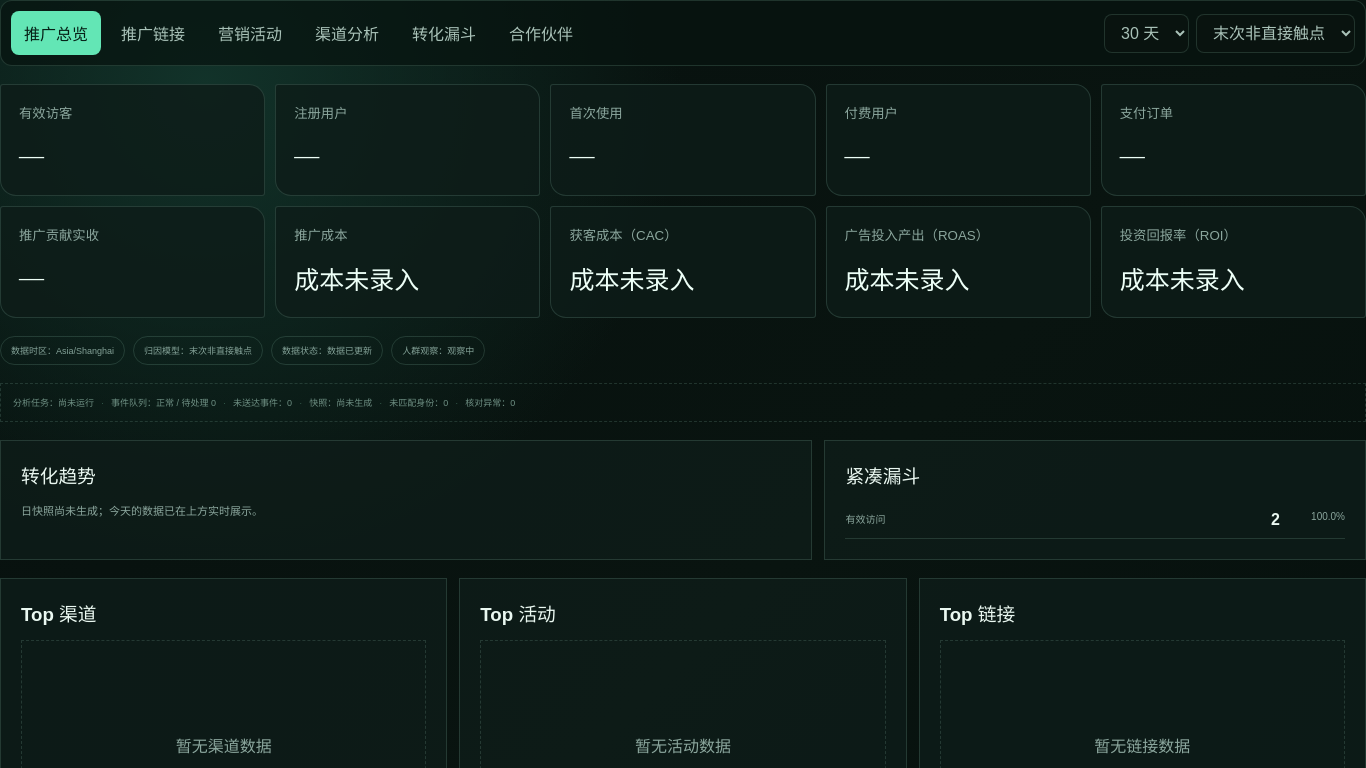
Test case: promotion center shell › renders all five management pages from one synthetic closed-loop dataset
Expected: the text "日快照尚未生成；今天的数据已在上方实时展示。" is shown, [21,505,263,517]
Click the tab "推广链接".
click(153, 33)  # box [108,11,198,55]
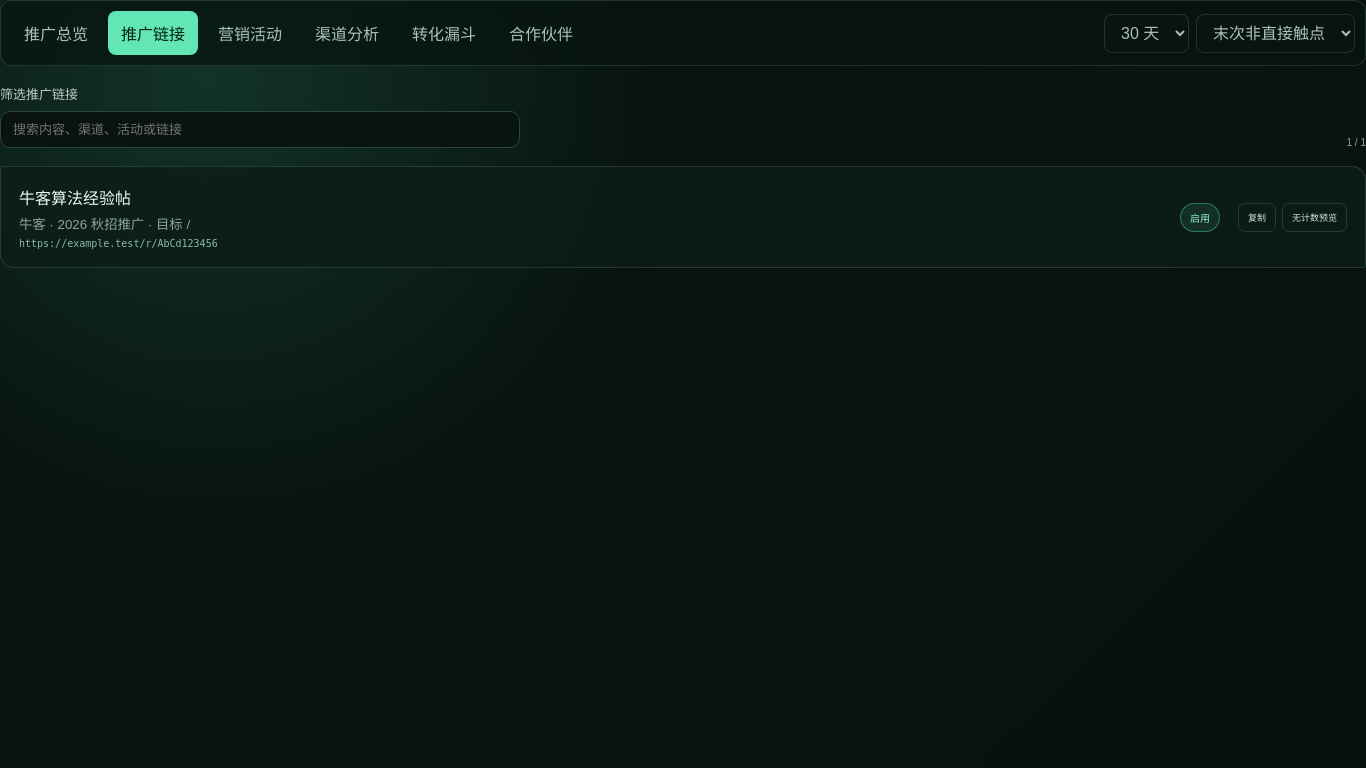
Expected: the text "牛客算法经验帖" is shown, [19,190,131,207]
Click the tab "营销活动".
click(250, 33)  # box [205,11,295,55]
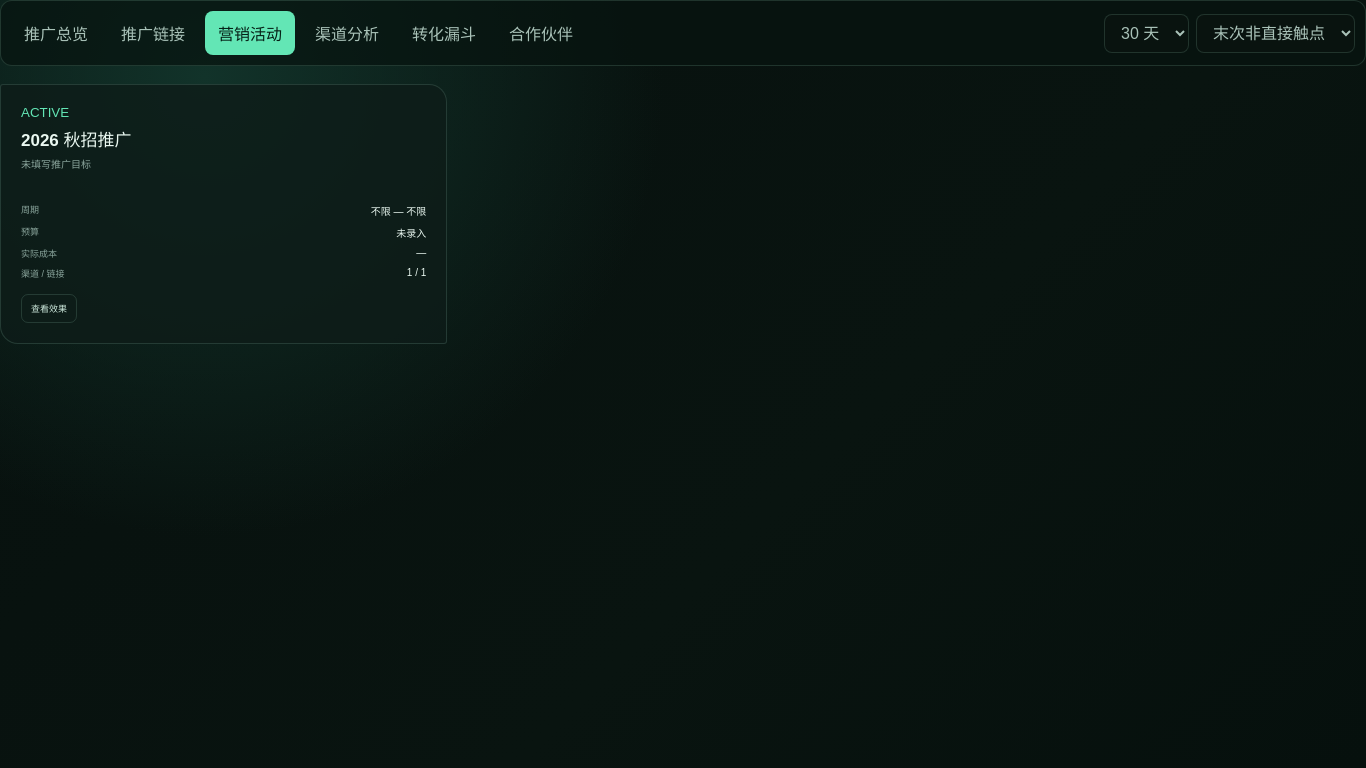
Expected: the text "2026 秋招推广" is shown, [21,131,132,150]
Click the tab "渠道分析".
click(347, 33)  # box [302,11,392,55]
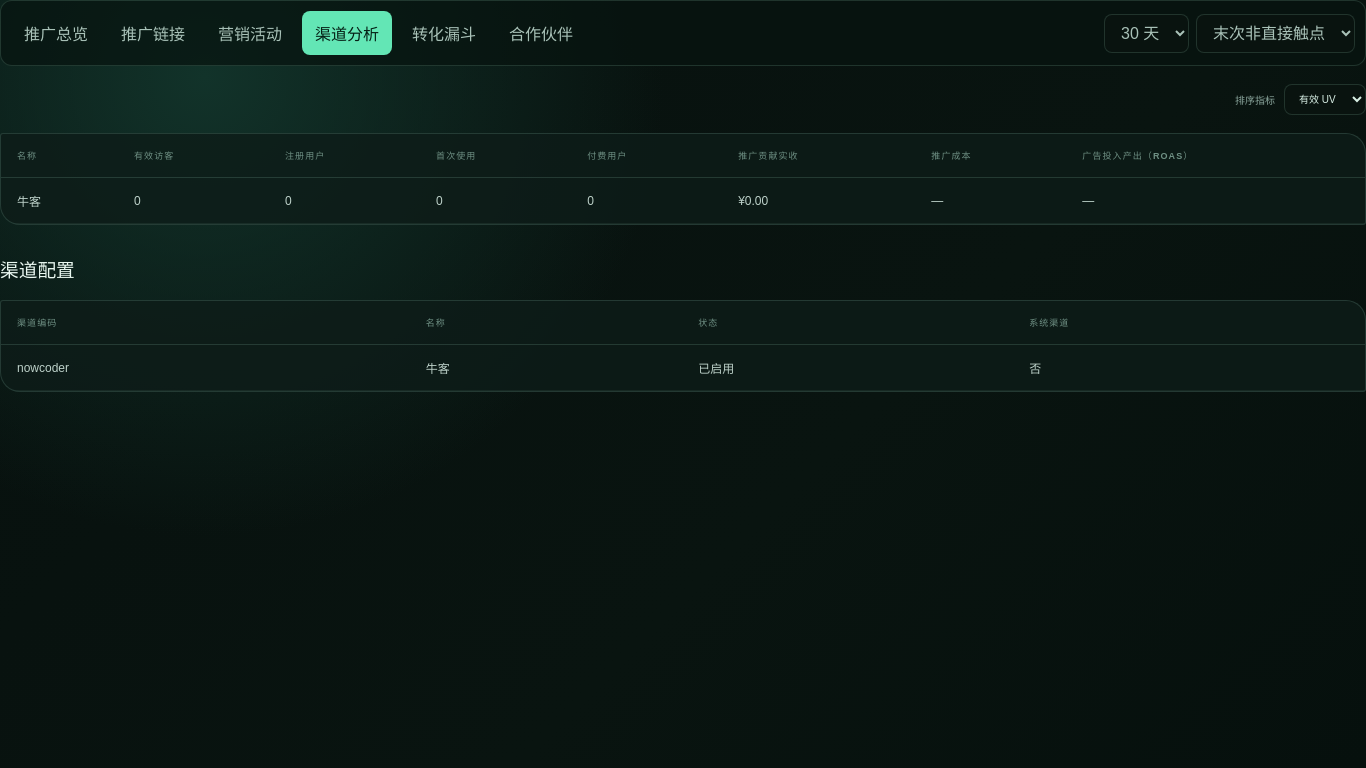
Expected: the text "牛客" in the row of "¥0.00" is shown, [17,195,41,209]
Click the tab "转化漏斗".
click(444, 33)  # box [399,11,489,55]
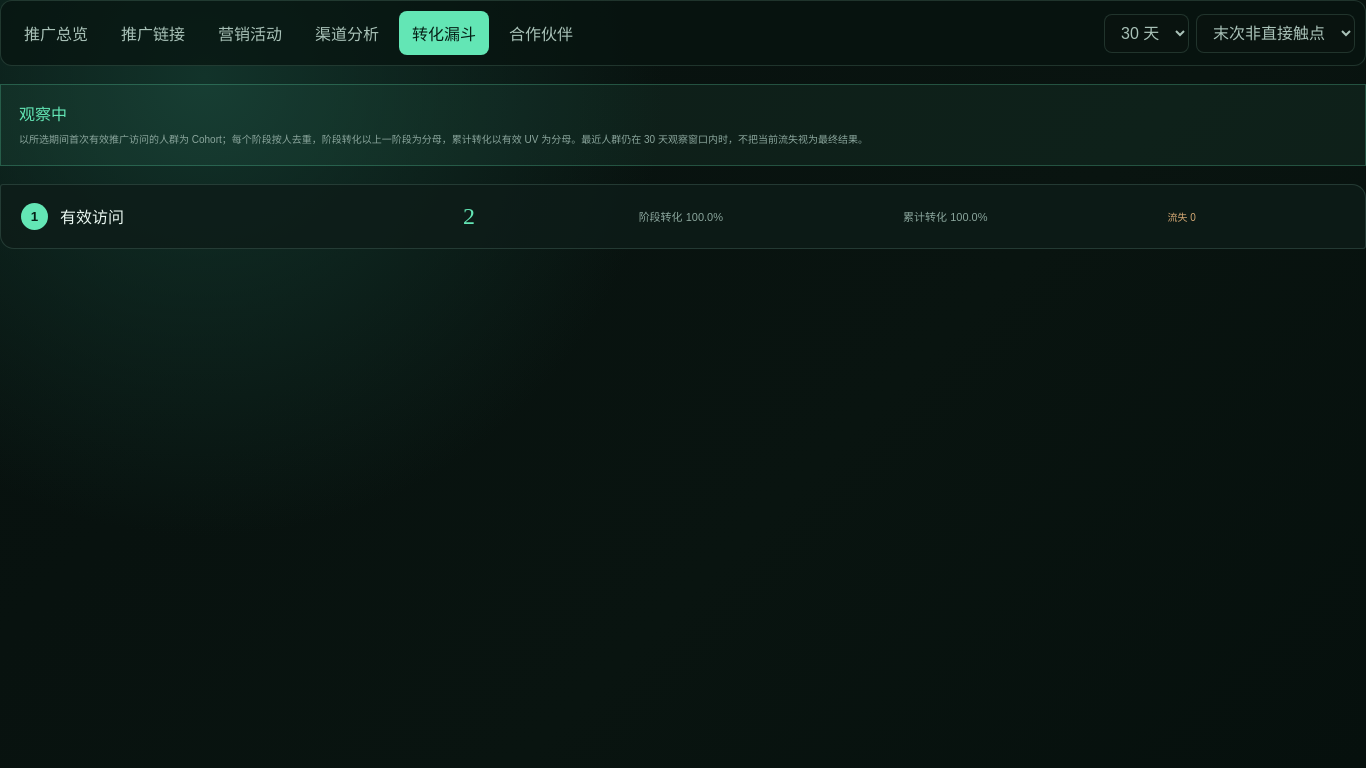
Expected: the text "有效访问" is shown, [60,204,124,228]
